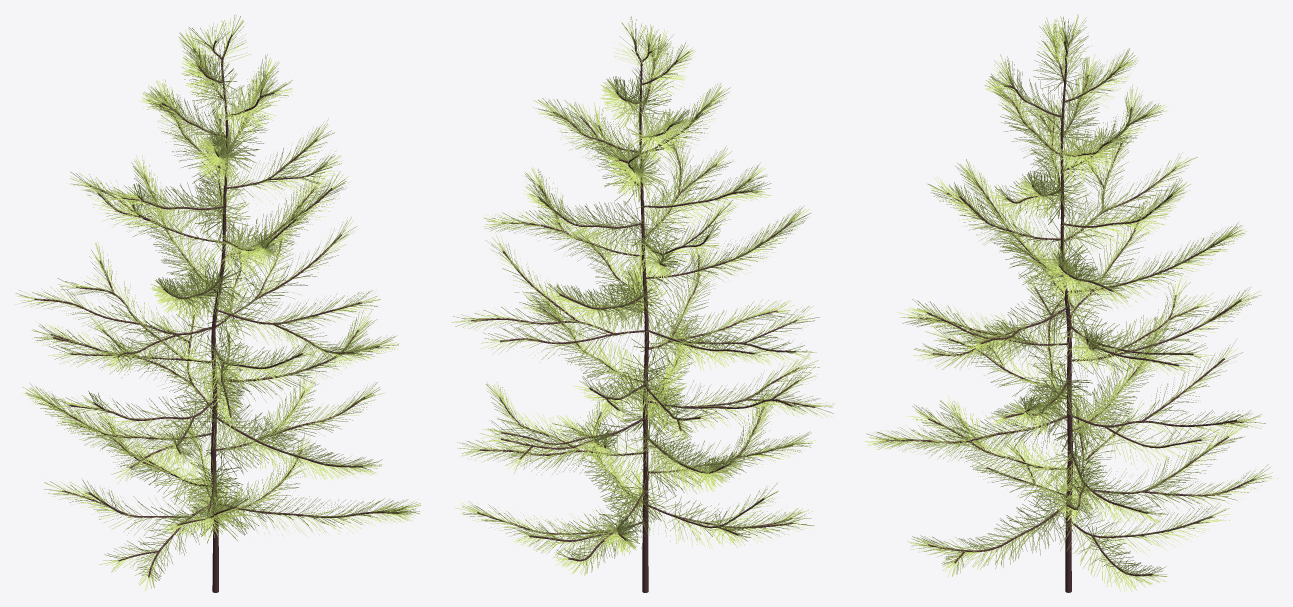
The model's file is Large_Tree_1.fbx.
3 views of the same model, side by side, from view 1: azimuth 30°, elevation 25°; view 2: azimuth 150°, elevation 25°; view 3: azimuth 270°, elevation 25° (orthographic).
Visible parts, largest first — view 1: leaves.002; view 2: leaves.002; view 3: leaves.002.
Part boxes in pixels (x1,y1,x2,y2): leaves.002: (14, 14, 421, 592); leaves.002: (451, 16, 834, 592); leaves.002: (864, 14, 1278, 592).
Bounding box in the file's own units: 13 × 21.45 × 13.93.
